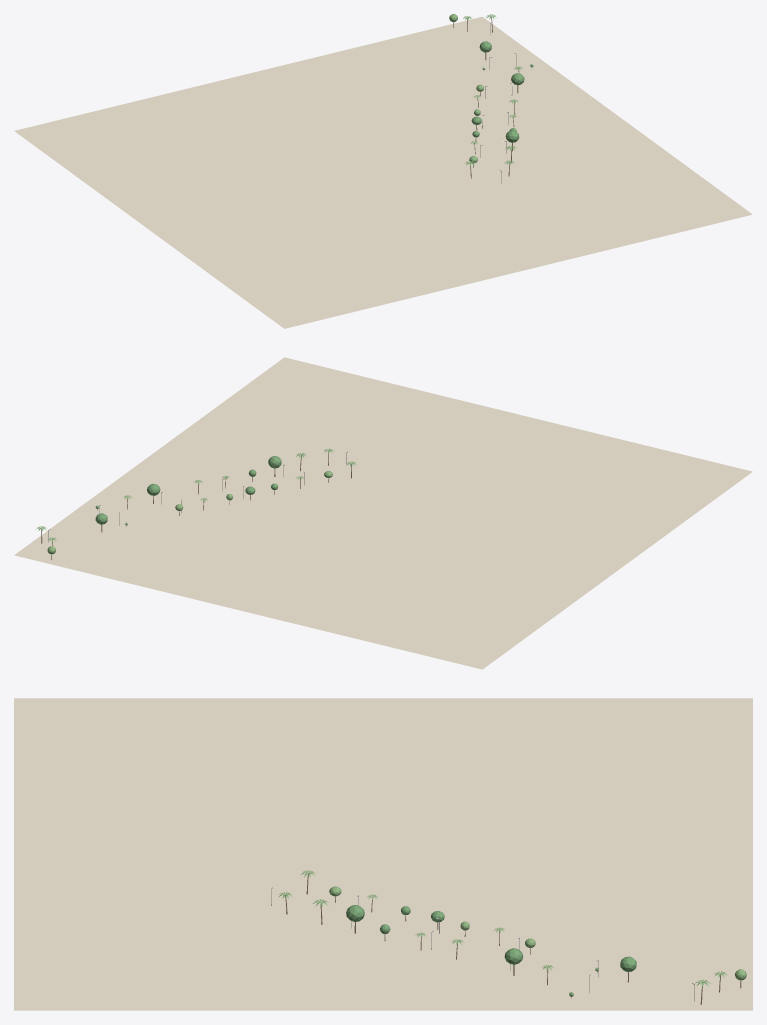
Rendered from nature_-6_6.glb.
3 views of the same model, one above another, from view 1: azimuth 30°, elevation 25°; view 2: azimuth 150°, elevation 25°; view 3: azimuth 270°, elevation 25° (orthographic). The views are drawn at different scales.
Parts seen in each view (by area): view 1: ground, foliage_a; view 2: ground, foliage_a; view 3: ground, foliage_a.
Part boxes in pixels (left/top/right/bottom): ground: left=14, top=16, right=752, bottom=328; foliage_a: left=471, top=41, right=533, bottom=142; ground: left=14, top=357, right=752, bottom=669; foliage_a: left=95, top=456, right=281, bottom=524; ground: left=14, top=698, right=752, bottom=1010; foliage_a: left=346, top=905, right=636, bottom=996.
Size of the model in its own units: 250 by 10.42 by 250.
